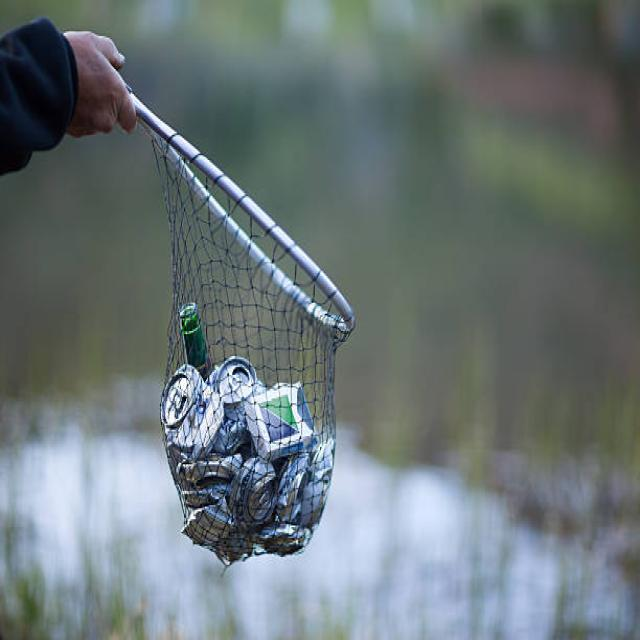glass: (178, 301, 211, 350)
metal: (155, 372, 325, 549)
